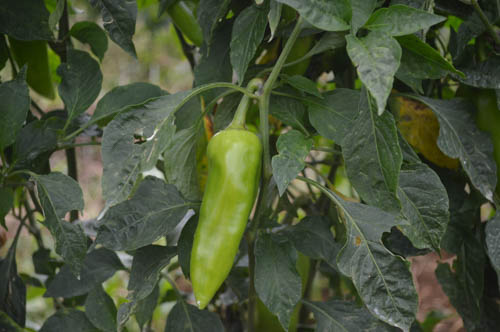ChiliPepper: (189, 127, 260, 314)
